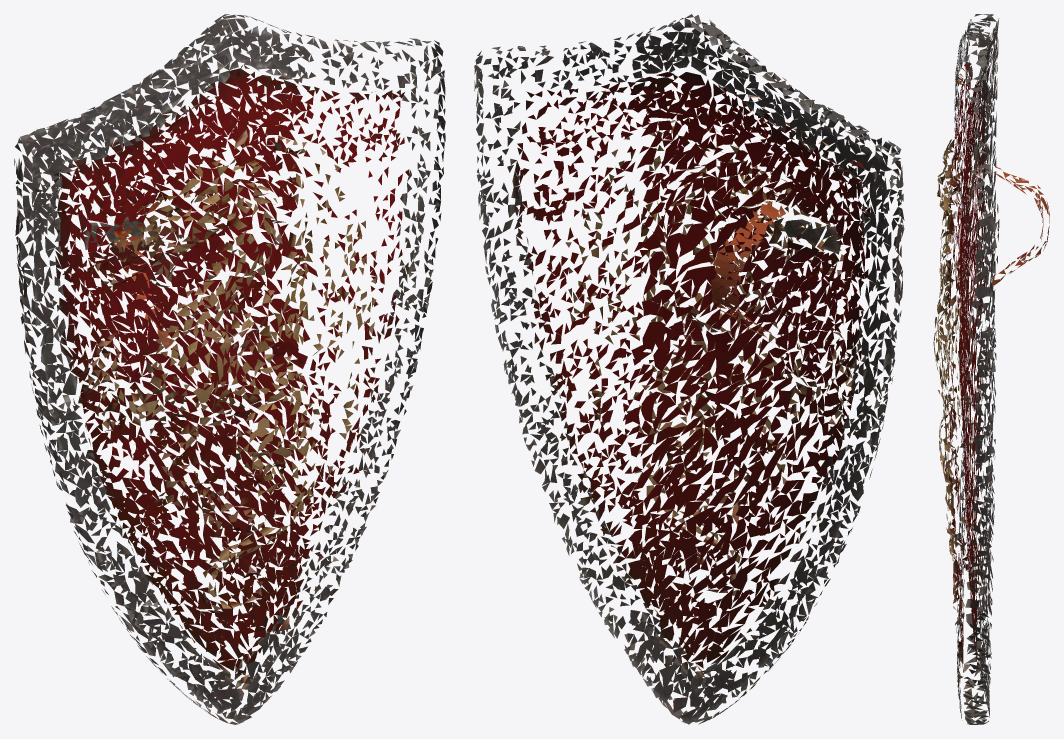
The model's file is b_kite_shield.glb.
The picture shows the model from 3 angles, left to right: view 1: azimuth 30°, elevation 25°; view 2: azimuth 150°, elevation 25°; view 3: azimuth 270°, elevation 25°; orthographic projection. The views are drawn at different scales.
Parts seen in each view (by area): view 1: shape_clean_textured; view 2: shape_clean_textured; view 3: shape_clean_textured.
Part boxes in pixels (x1,y1,x2,y2): shape_clean_textured: (14,14,445,724); shape_clean_textured: (474,14,904,724); shape_clean_textured: (933,14,1049,724).
Bounding box in the file's own units: 1.25 × 2 × 0.3047.
Materials: 1 (1 with a texture image).
